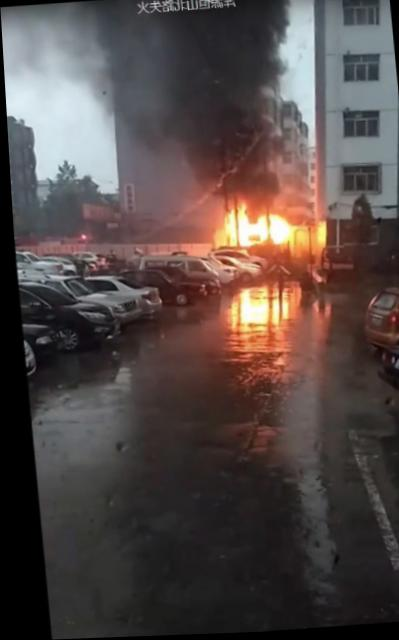fire: (233, 288, 266, 327), (237, 212, 267, 247), (268, 213, 298, 246), (220, 209, 236, 247), (266, 291, 279, 324), (310, 219, 326, 245), (276, 290, 289, 319)
